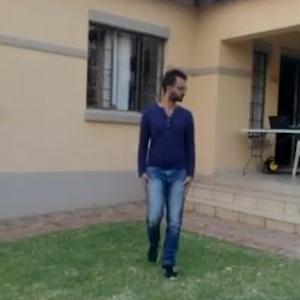follow: (127, 54, 202, 299)
